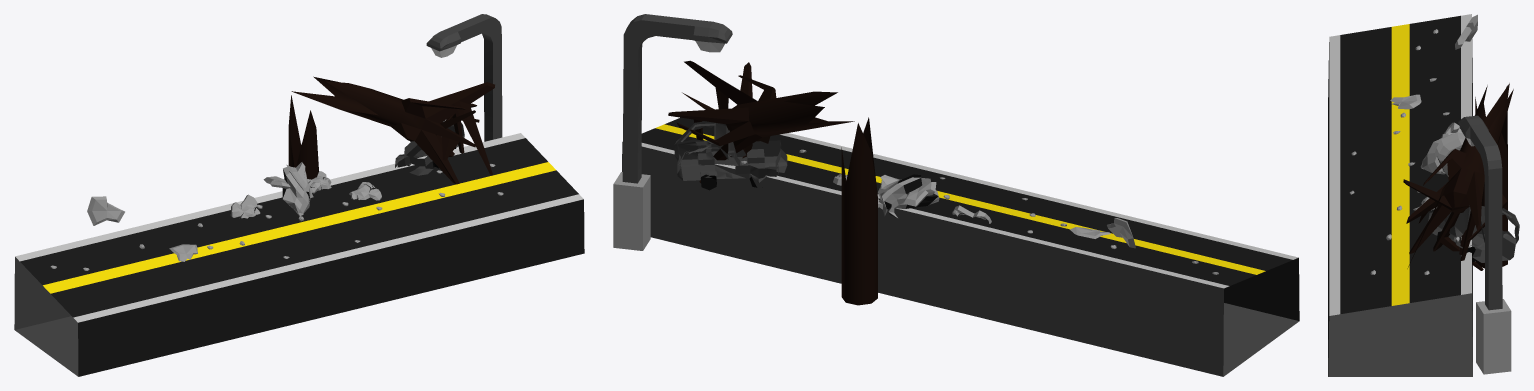
Rendered from home2@road.FBX.
3 views of the same model, side by side, from view 1: azimuth 30°, elevation 25°; view 2: azimuth 150°, elevation 25°; view 3: azimuth 270°, elevation 25° (orthographic). The views are drawn at different scales.
Visible parts, largest first — view 1: Box003; view 2: Box003; view 3: Box003.
Boxes of the visible parts, x1=… form: Box003: x1=14, y1=14, x2=584, y2=376; Box003: x1=613, y1=14, x2=1299, y2=376; Box003: x1=1328, y1=14, x2=1519, y2=376.
Size of the model in its own units: 155 by 55.87 by 44.85.
